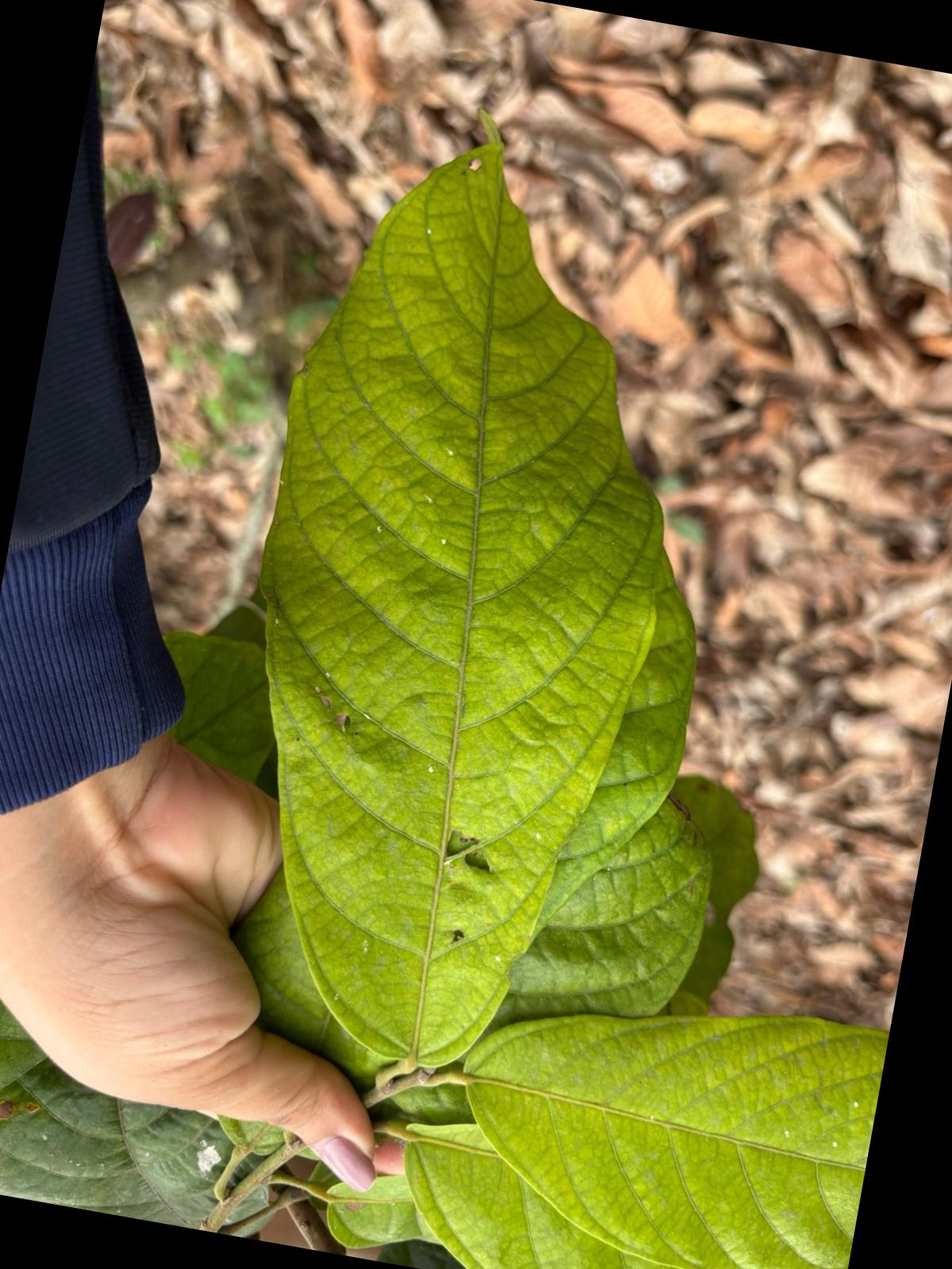Nitrogeno: (261, 142, 662, 1062), (465, 1016, 886, 1269)
